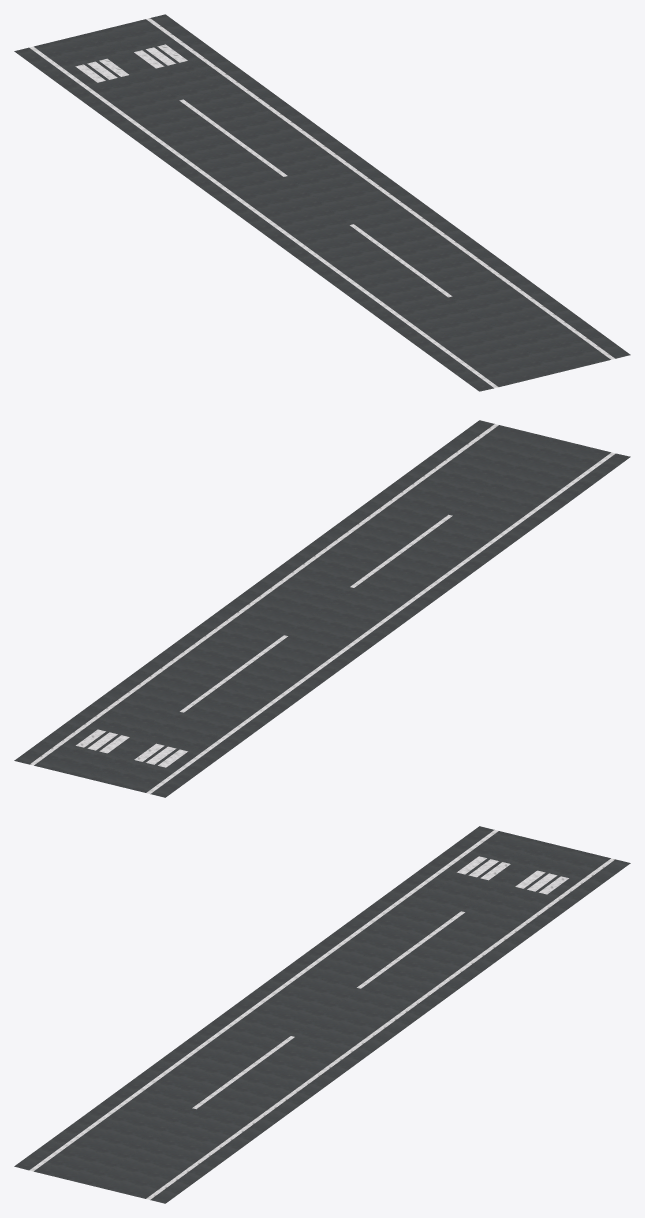
The model's file is vgssairportland14.obj.
The picture shows the model from 3 angles, top to bottom: view 1: azimuth 30°, elevation 25°; view 2: azimuth 150°, elevation 25°; view 3: azimuth 330°, elevation 25°; orthographic projection.
Parts seen in each view (by area): view 1: vgsSairportland14; view 2: vgsSairportland14; view 3: vgsSairportland14.
Boxes of the visible parts, left/top/right/bottom form: vgsSairportland14: left=14, top=14, right=630, bottom=391; vgsSairportland14: left=14, top=420, right=630, bottom=797; vgsSairportland14: left=14, top=826, right=630, bottom=1203.
Size of the model in its own units: 40.02 by 0.0839 by 213.
Materials: 2 (2 with a texture image).
